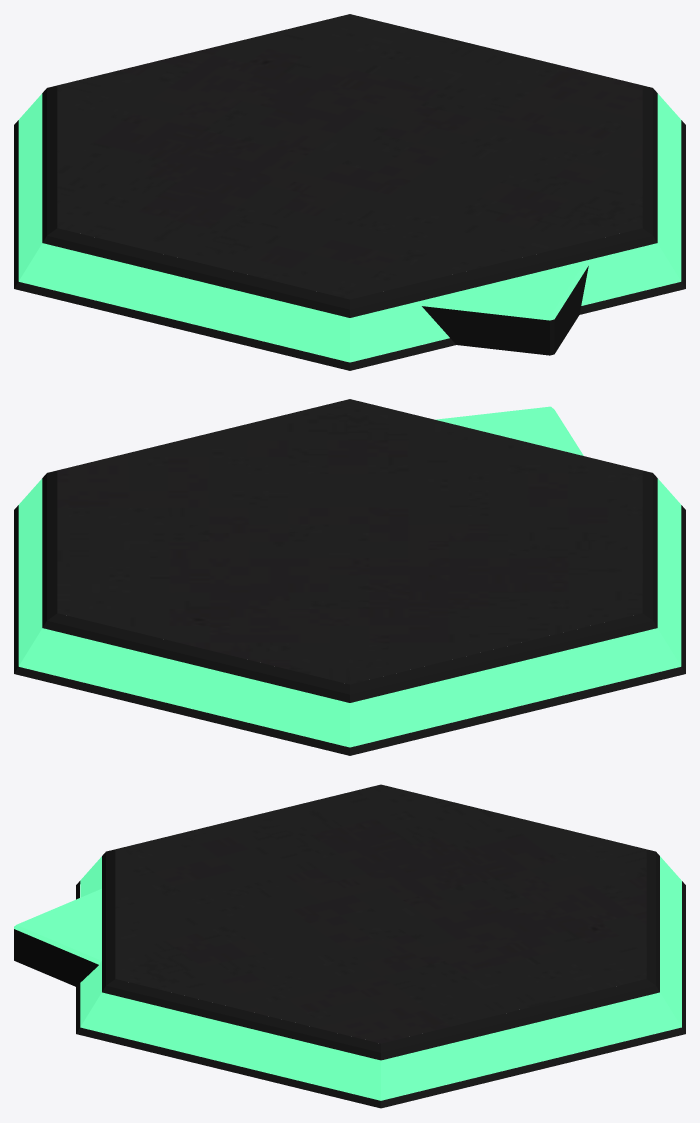
File: jb2ahex1Indicator.glb
3 renders of one model, top to bottom at view 1: azimuth 30°, elevation 25°; view 2: azimuth 150°, elevation 25°; view 3: azimuth 270°, elevation 25°, orthographic. The views are drawn at different scales.
Visible parts, largest first — view 1: base, ForwardMaker.005; view 2: base, ForwardMaker.005; view 3: base, ForwardMaker.005.
Part boxes in pixels (<box>): base: <box>14,14,685,370</box>; ForwardMaker.005: <box>421,261,588,355</box>; base: <box>14,399,685,755</box>; ForwardMaker.005: <box>435,406,583,455</box>; base: <box>76,784,685,1108</box>; ForwardMaker.005: <box>14,889,101,986</box>.
Bounding box in the file's own units: 2 × 0.1428 × 1.91.
Materials: 3 (1 with a texture image).
